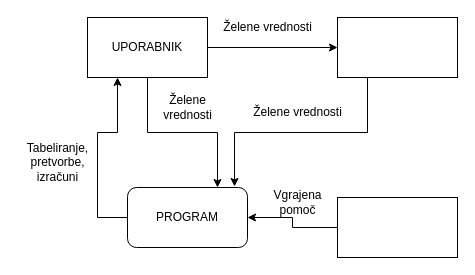
The diagram is 475 pixels wide and 275 high, and some of its shapes have lost their labels. The shapes that lost their labels are listed below. From the top down, each one's box as (x1, y1, x2, y2) in pixels, then its label:
(336, 16, 458, 78): DATOTEKA: csupp_config.txt
(336, 196, 458, 258): DATOTEKA: readme.txt
